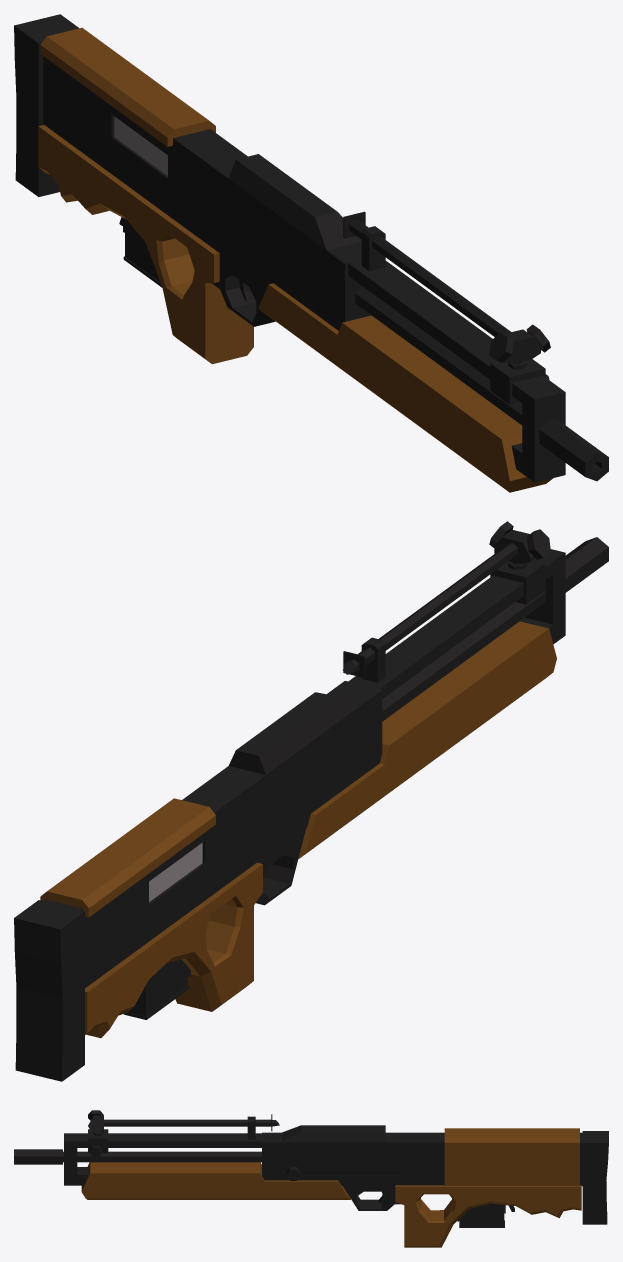
3 renders of one model, top to bottom at view 1: azimuth 30°, elevation 25°; view 2: azimuth 150°, elevation 25°; view 3: azimuth 270°, elevation 25°, orthographic. The views are drawn at different scales.
Visible parts, largest first — view 1: frame, guard, grip, stock_f, gastube, barel, stock_r, striker, mag; view 2: frame, guard, grip, stock_r, stock_f, gastube, barel, mag, striker; view 3: frame, guard, stock_f, grip, barel, stock_r, gastube, mag.
Boxes of the visible parts, <box> form: frame: <box>43,56,565,482</box>; guard: <box>258,283,553,492</box>; grip: <box>38,125,253,364</box>; stock_f: <box>40,27,215,146</box>; gastube: <box>343,211,550,404</box>; barel: <box>355,287,608,481</box>; stock_r: <box>14,14,78,196</box>; striker: <box>114,116,167,175</box>; mag: <box>123,233,162,287</box>; frame: <box>44,549,565,993</box>; guard: <box>298,621,556,858</box>; grip: <box>85,862,262,1038</box>; stock_r: <box>14,900,84,1081</box>; stock_f: <box>40,798,215,917</box>; gastube: <box>343,521,550,682</box>; barel: <box>382,537,608,721</box>; mag: <box>123,965,189,1019</box>; striker: <box>149,842,202,901</box>; frame: <box>64,1125,582,1221</box>; guard: <box>81,1162,350,1199</box>; stock_f: <box>444,1128,579,1185</box>; grip: <box>395,1185,581,1247</box>; barel: <box>14,1149,261,1164</box>; stock_r: <box>582,1131,608,1224</box>; gastube: <box>88,1110,279,1157</box>; mag: <box>459,1211,504,1227</box>.
Size of the model in its own units: 0.535 by 2.08 by 8.76.
13 materials, 13 textured.
